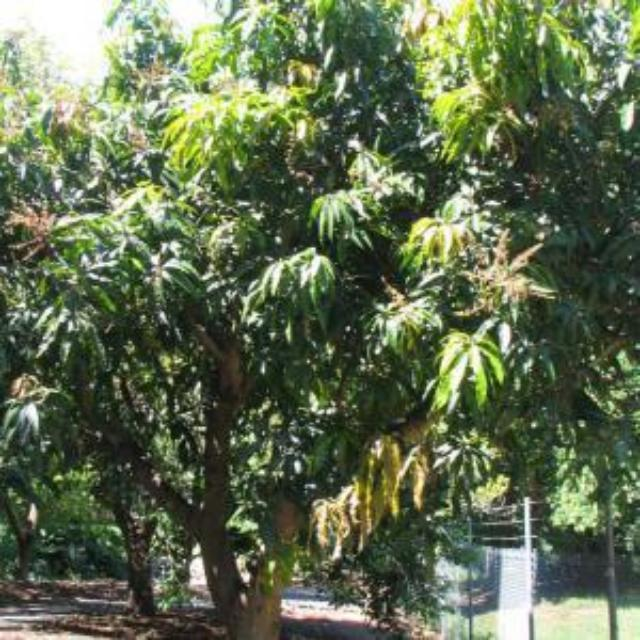tree: (9, 7, 619, 629)
